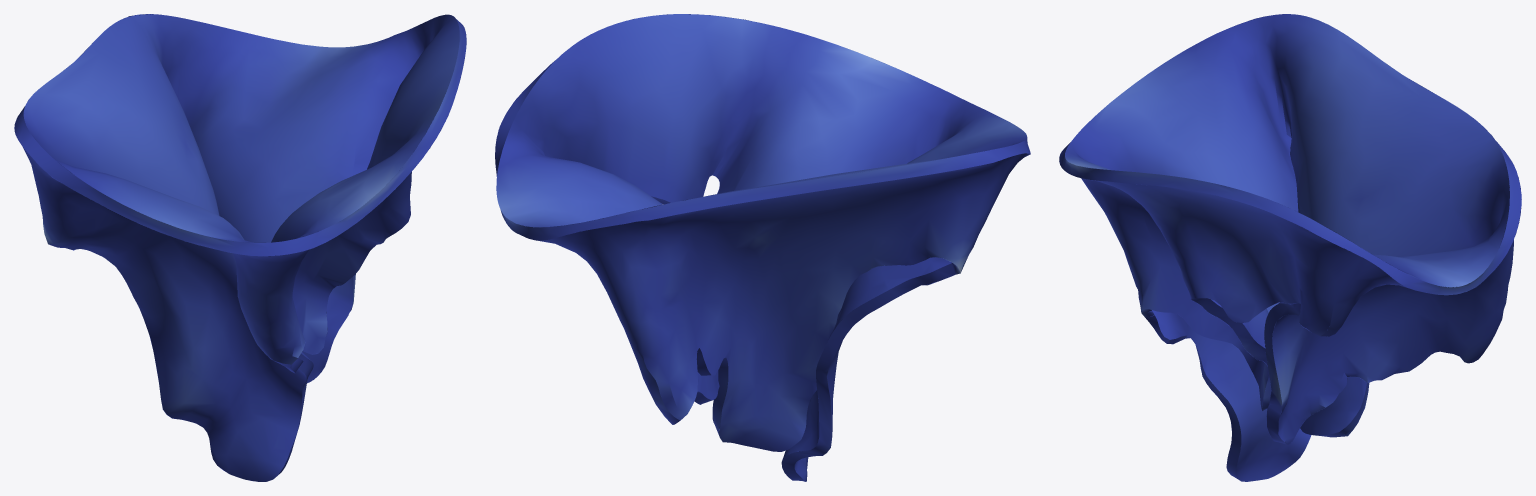
3 renders of one model, left to right at view 1: azimuth 30°, elevation 25°; view 2: azimuth 150°, elevation 25°; view 3: azimuth 270°, elevation 25°, orthographic. The views are drawn at different scales.
Visible parts, largest first — view 1: OCS14_maxS_3; view 2: OCS14_maxS_3; view 3: OCS14_maxS_3.
Part boxes in pixels (x1,y1,x2,y2): OCS14_maxS_3: (14, 14, 466, 481); OCS14_maxS_3: (495, 14, 1030, 481); OCS14_maxS_3: (1059, 14, 1521, 481).
Size of the model in its own units: 1.44 by 1.2 by 1.32.
